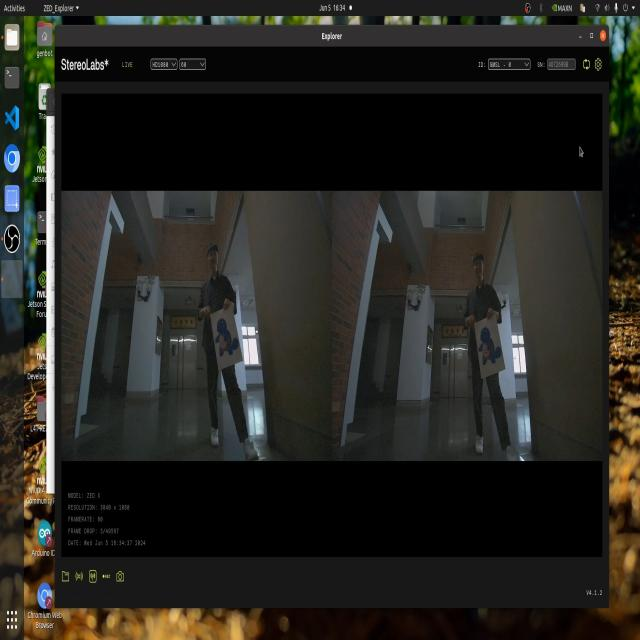blue: (212, 311, 240, 366), (478, 325, 503, 373)
